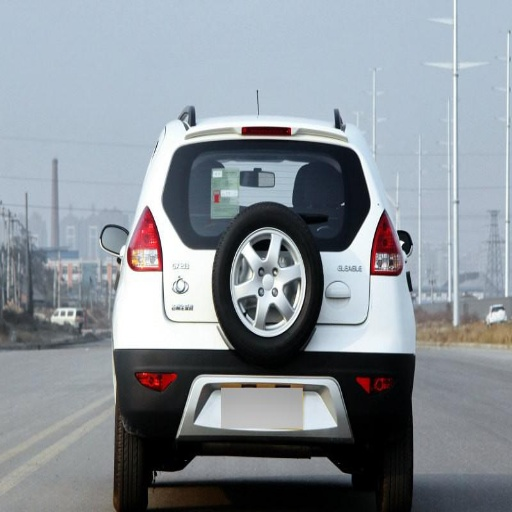back_bumper: (115, 267, 247, 437), (316, 252, 412, 430)
trunk: (152, 200, 226, 326)
